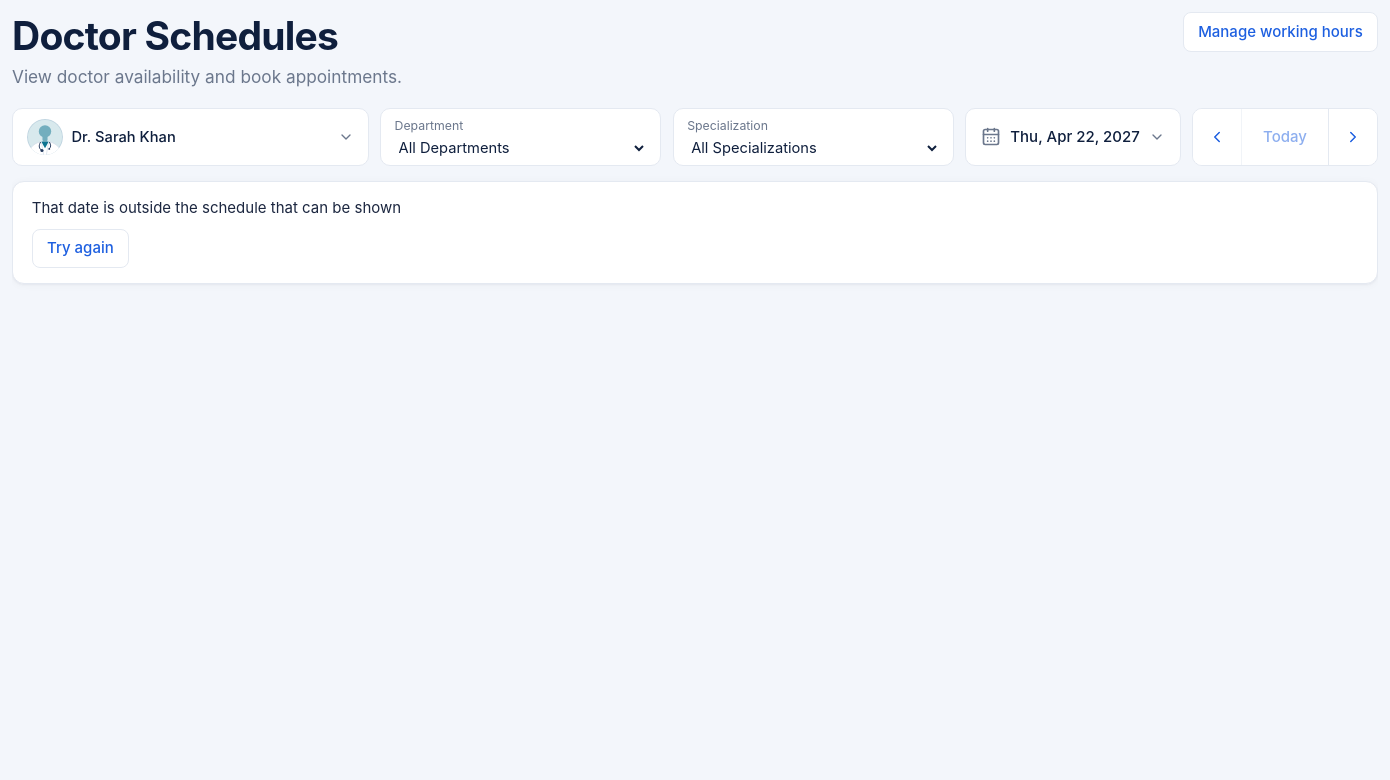
Test: Doctor Schedules › explains a schedule that cannot be loaded
Check: the message shows "outside the schedule", box [32,198,401,217]
Click the button "Try again" at (80,249), box [32,229,129,268]
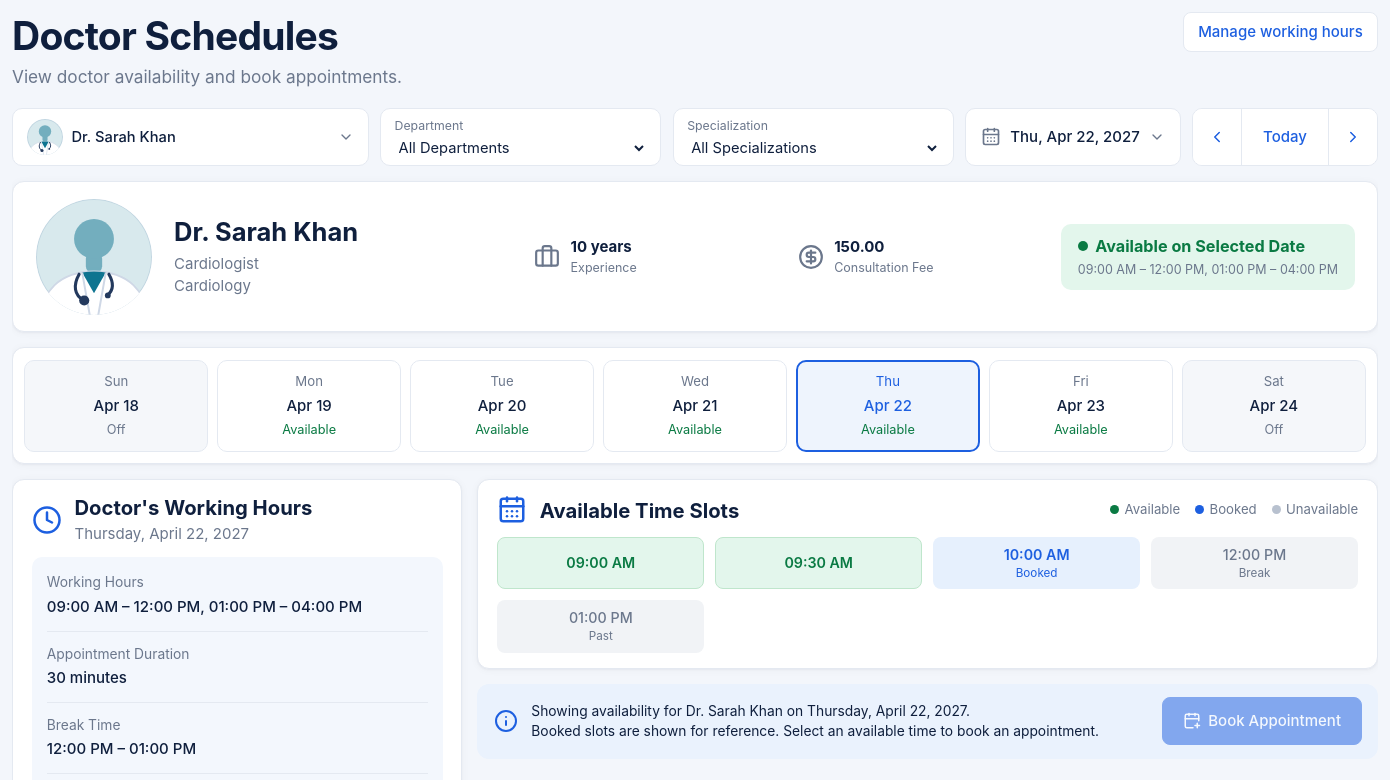
Check: the element named "Selected doctor" is shown, box [12,181,1378,332]
